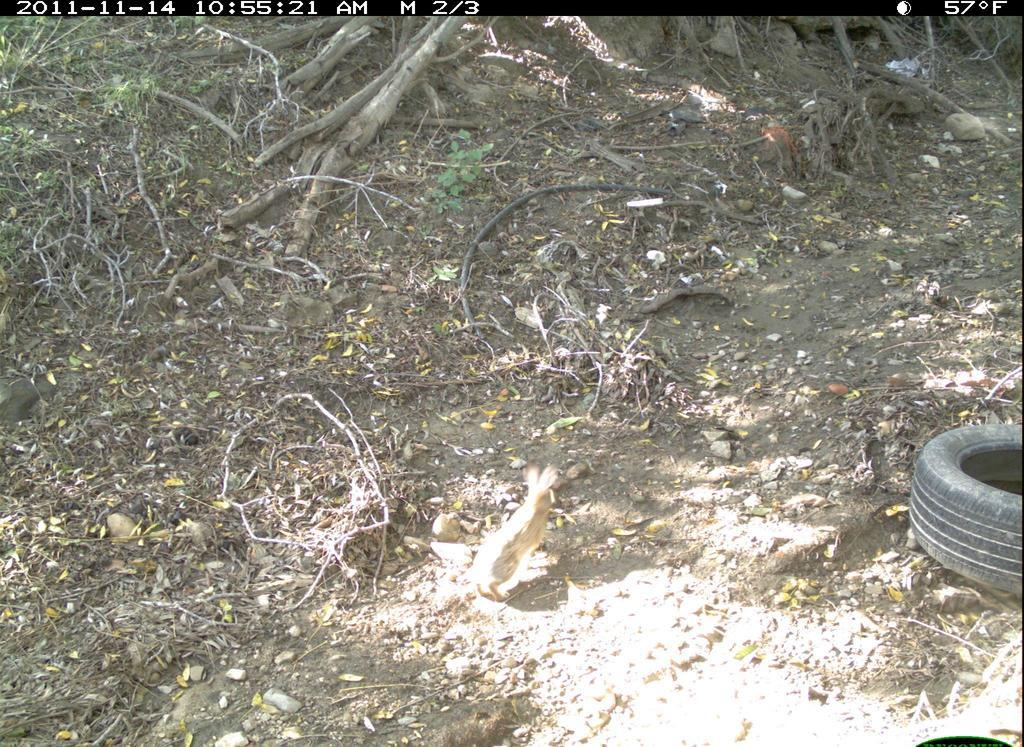rabbit: (455, 460, 566, 614)
